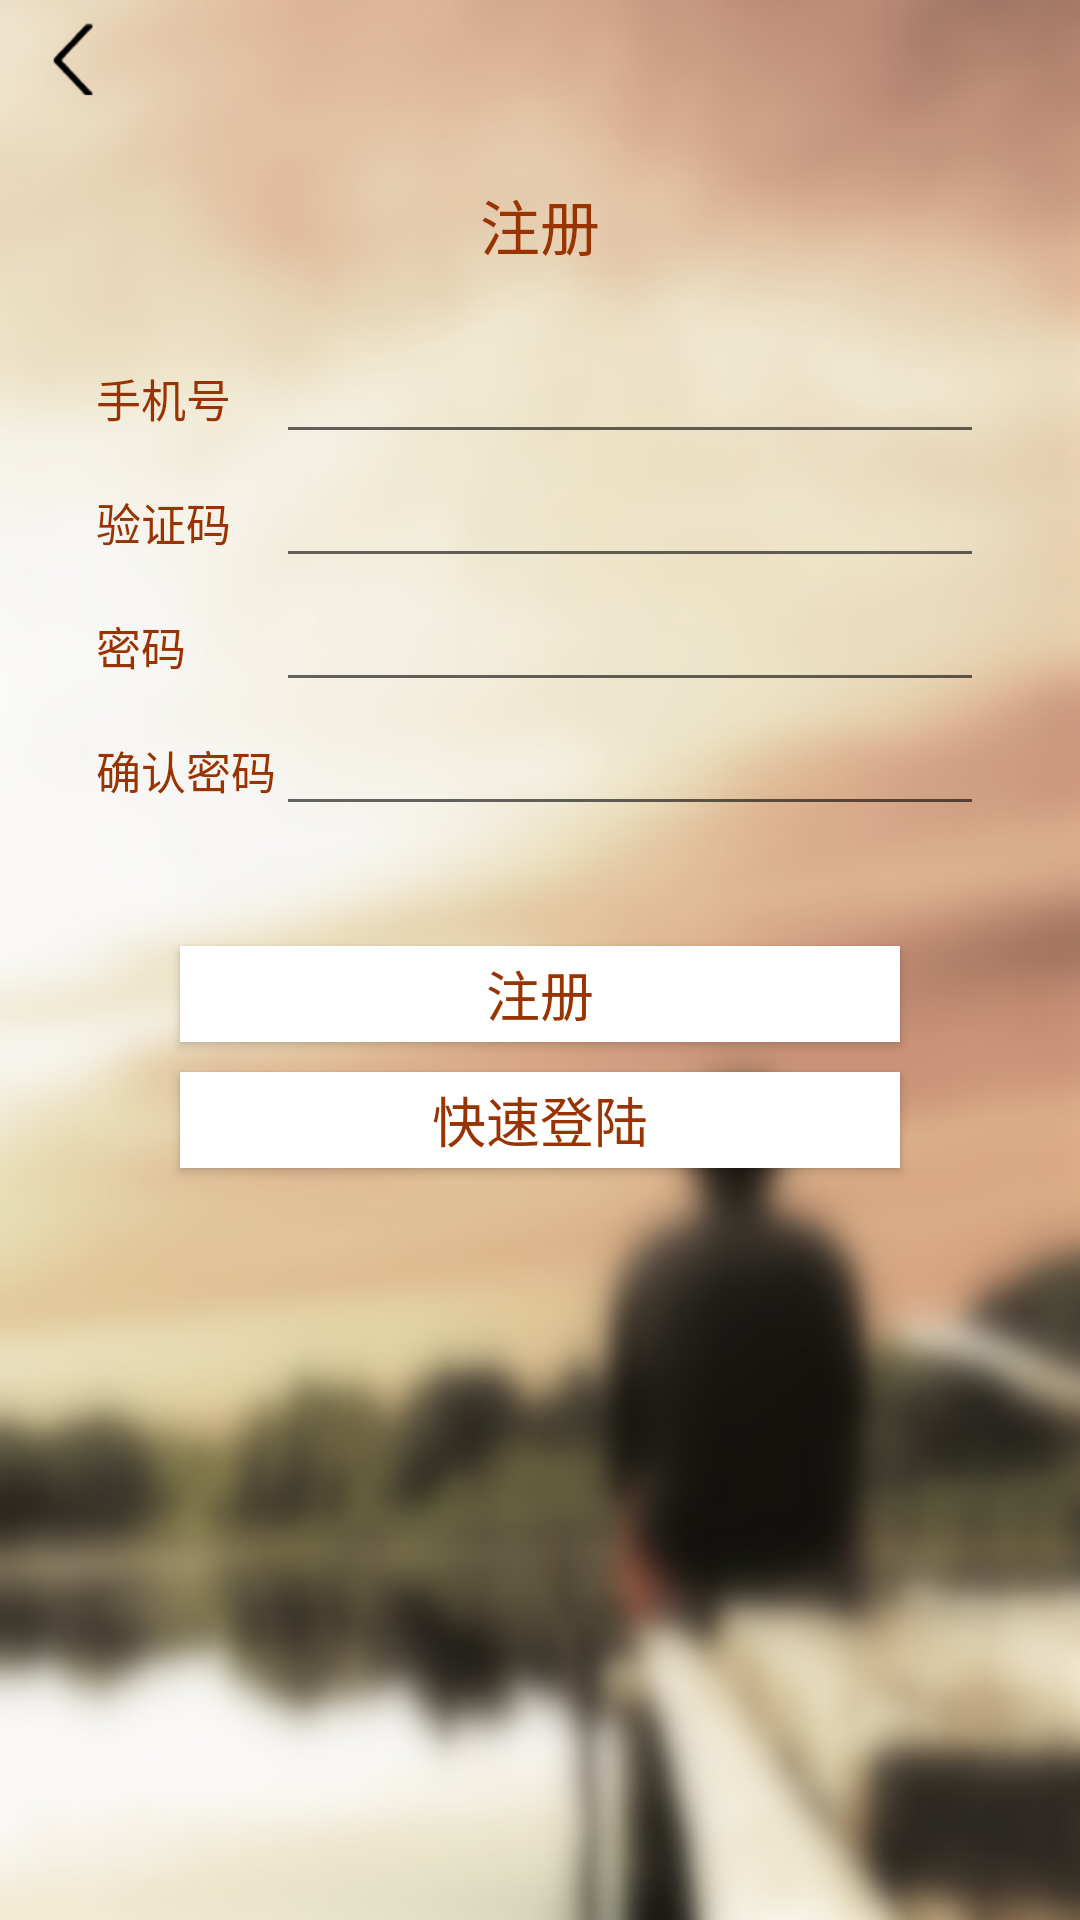

Where icons sit on this 1080 × 1920 app screen, as bbox(x1, y1, x2, y2):
back: bbox(53, 23, 93, 96)
